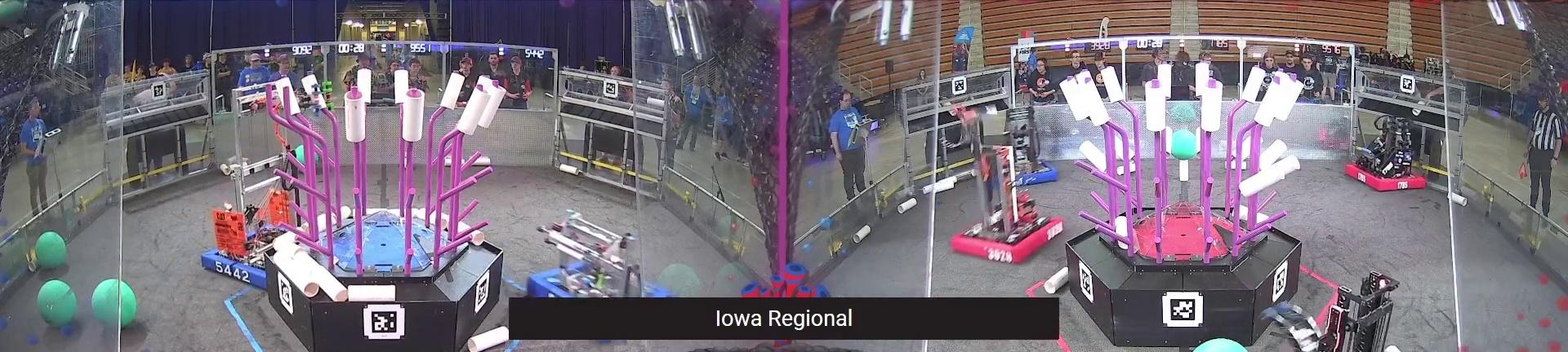coral: (272, 251, 319, 297), (457, 87, 491, 137), (1239, 164, 1285, 197), (1254, 80, 1284, 127), (1060, 77, 1091, 121), (1080, 78, 1109, 125), (478, 83, 506, 129), (1275, 77, 1303, 121), (402, 88, 424, 143), (1201, 80, 1224, 132), (314, 267, 348, 301), (274, 79, 303, 118), (344, 91, 366, 142), (1145, 79, 1166, 132), (1079, 140, 1106, 175), (1258, 139, 1288, 170), (440, 73, 465, 110), (448, 221, 485, 246), (302, 75, 328, 110), (1100, 67, 1125, 103), (1241, 66, 1265, 103), (1262, 154, 1301, 175), (1233, 135, 1264, 161), (347, 285, 395, 300), (271, 239, 304, 260), (1232, 206, 1269, 224), (417, 207, 447, 228), (1114, 135, 1135, 163), (356, 69, 372, 105), (1194, 62, 1210, 97), (296, 252, 321, 274), (273, 226, 306, 242), (395, 69, 409, 104), (1157, 64, 1171, 99), (303, 215, 334, 229), (1160, 126, 1173, 159), (384, 208, 419, 219), (476, 76, 495, 93), (352, 207, 386, 216), (332, 206, 351, 221), (1076, 70, 1092, 85), (1275, 71, 1289, 84), (1196, 126, 1200, 159)
reef: (1059, 64, 1307, 349), (265, 67, 507, 352)
robot: (198, 79, 303, 291), (948, 102, 1065, 267), (526, 209, 672, 299), (1259, 271, 1401, 352), (1346, 114, 1428, 193), (1005, 107, 1057, 186)
